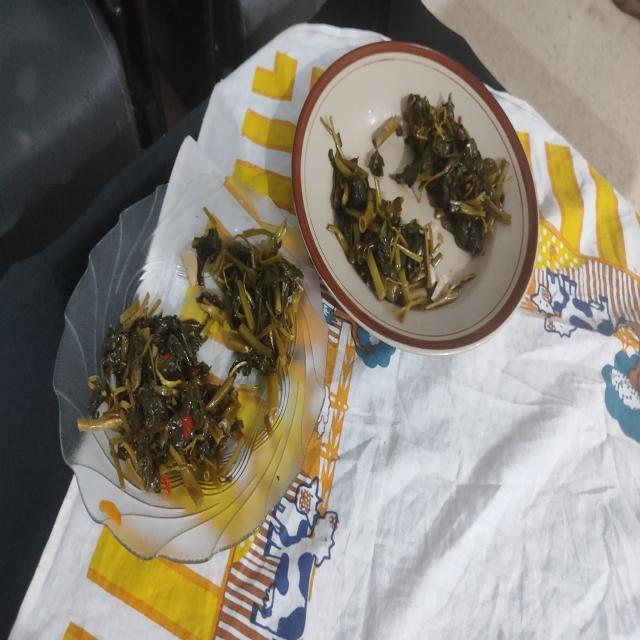tumis_kangkung: (78, 294, 245, 512), (320, 117, 442, 322), (390, 94, 510, 255), (192, 208, 304, 374)
